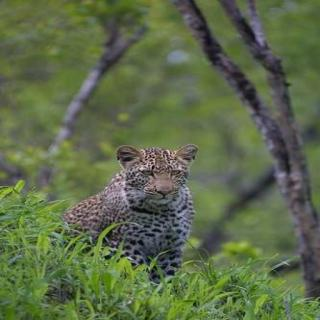Leopard: (64, 135, 207, 287)
